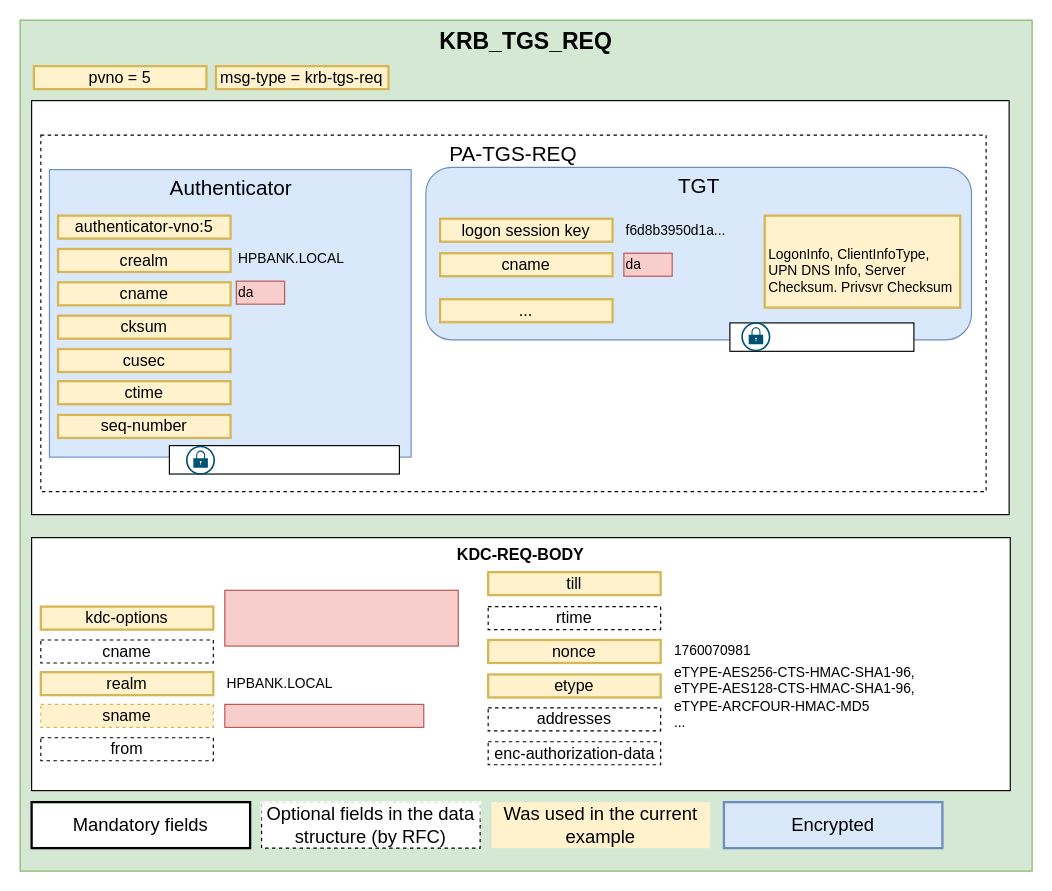
The diagram is 1052 pixels wide and 891 high, and some of its shapes have lost their labels. The shapes that lost their labels are listed below. From the top down, each one's box as (x1, y1, x2, y2) in pixels, then its label:
(763, 214, 961, 308): PAC (da)
(30, 99, 1009, 515): PADATA
(729, 322, 914, 351): krbtgt kerberos key
(168, 444, 399, 474): da logon session key
(224, 589, 458, 646): forwardable, forwarded, renewable, canonicalize, renewable-ok
(224, 703, 424, 727): krbtgt/HPBANK.LOCAL
